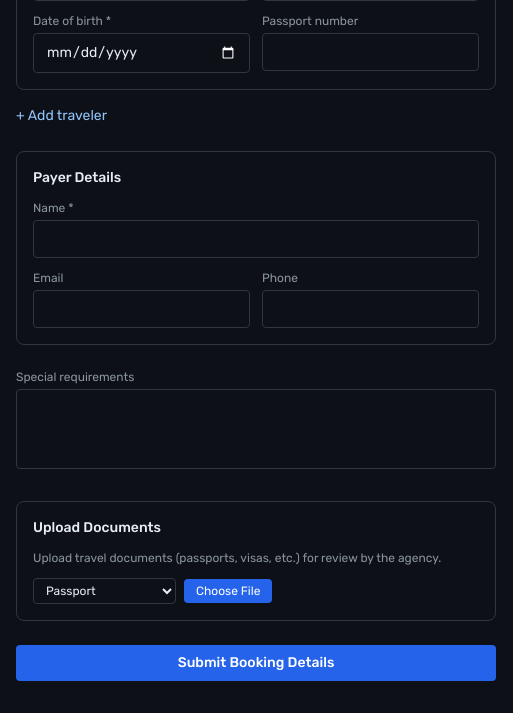
Test: BookingCollectionPage › shows error on submission failure
(page scrolled)
Click the button with test id "collection-submit-btn": coordinates (256, 663) top-left (16, 645), bottom-right (496, 681)
(page scrolled)
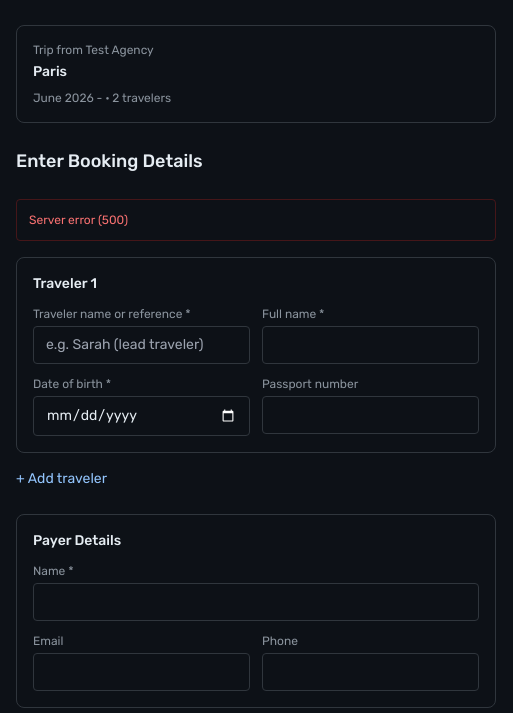
Now the text "Server error (500)" is shown, box top-left (16, 199), bottom-right (496, 241)
